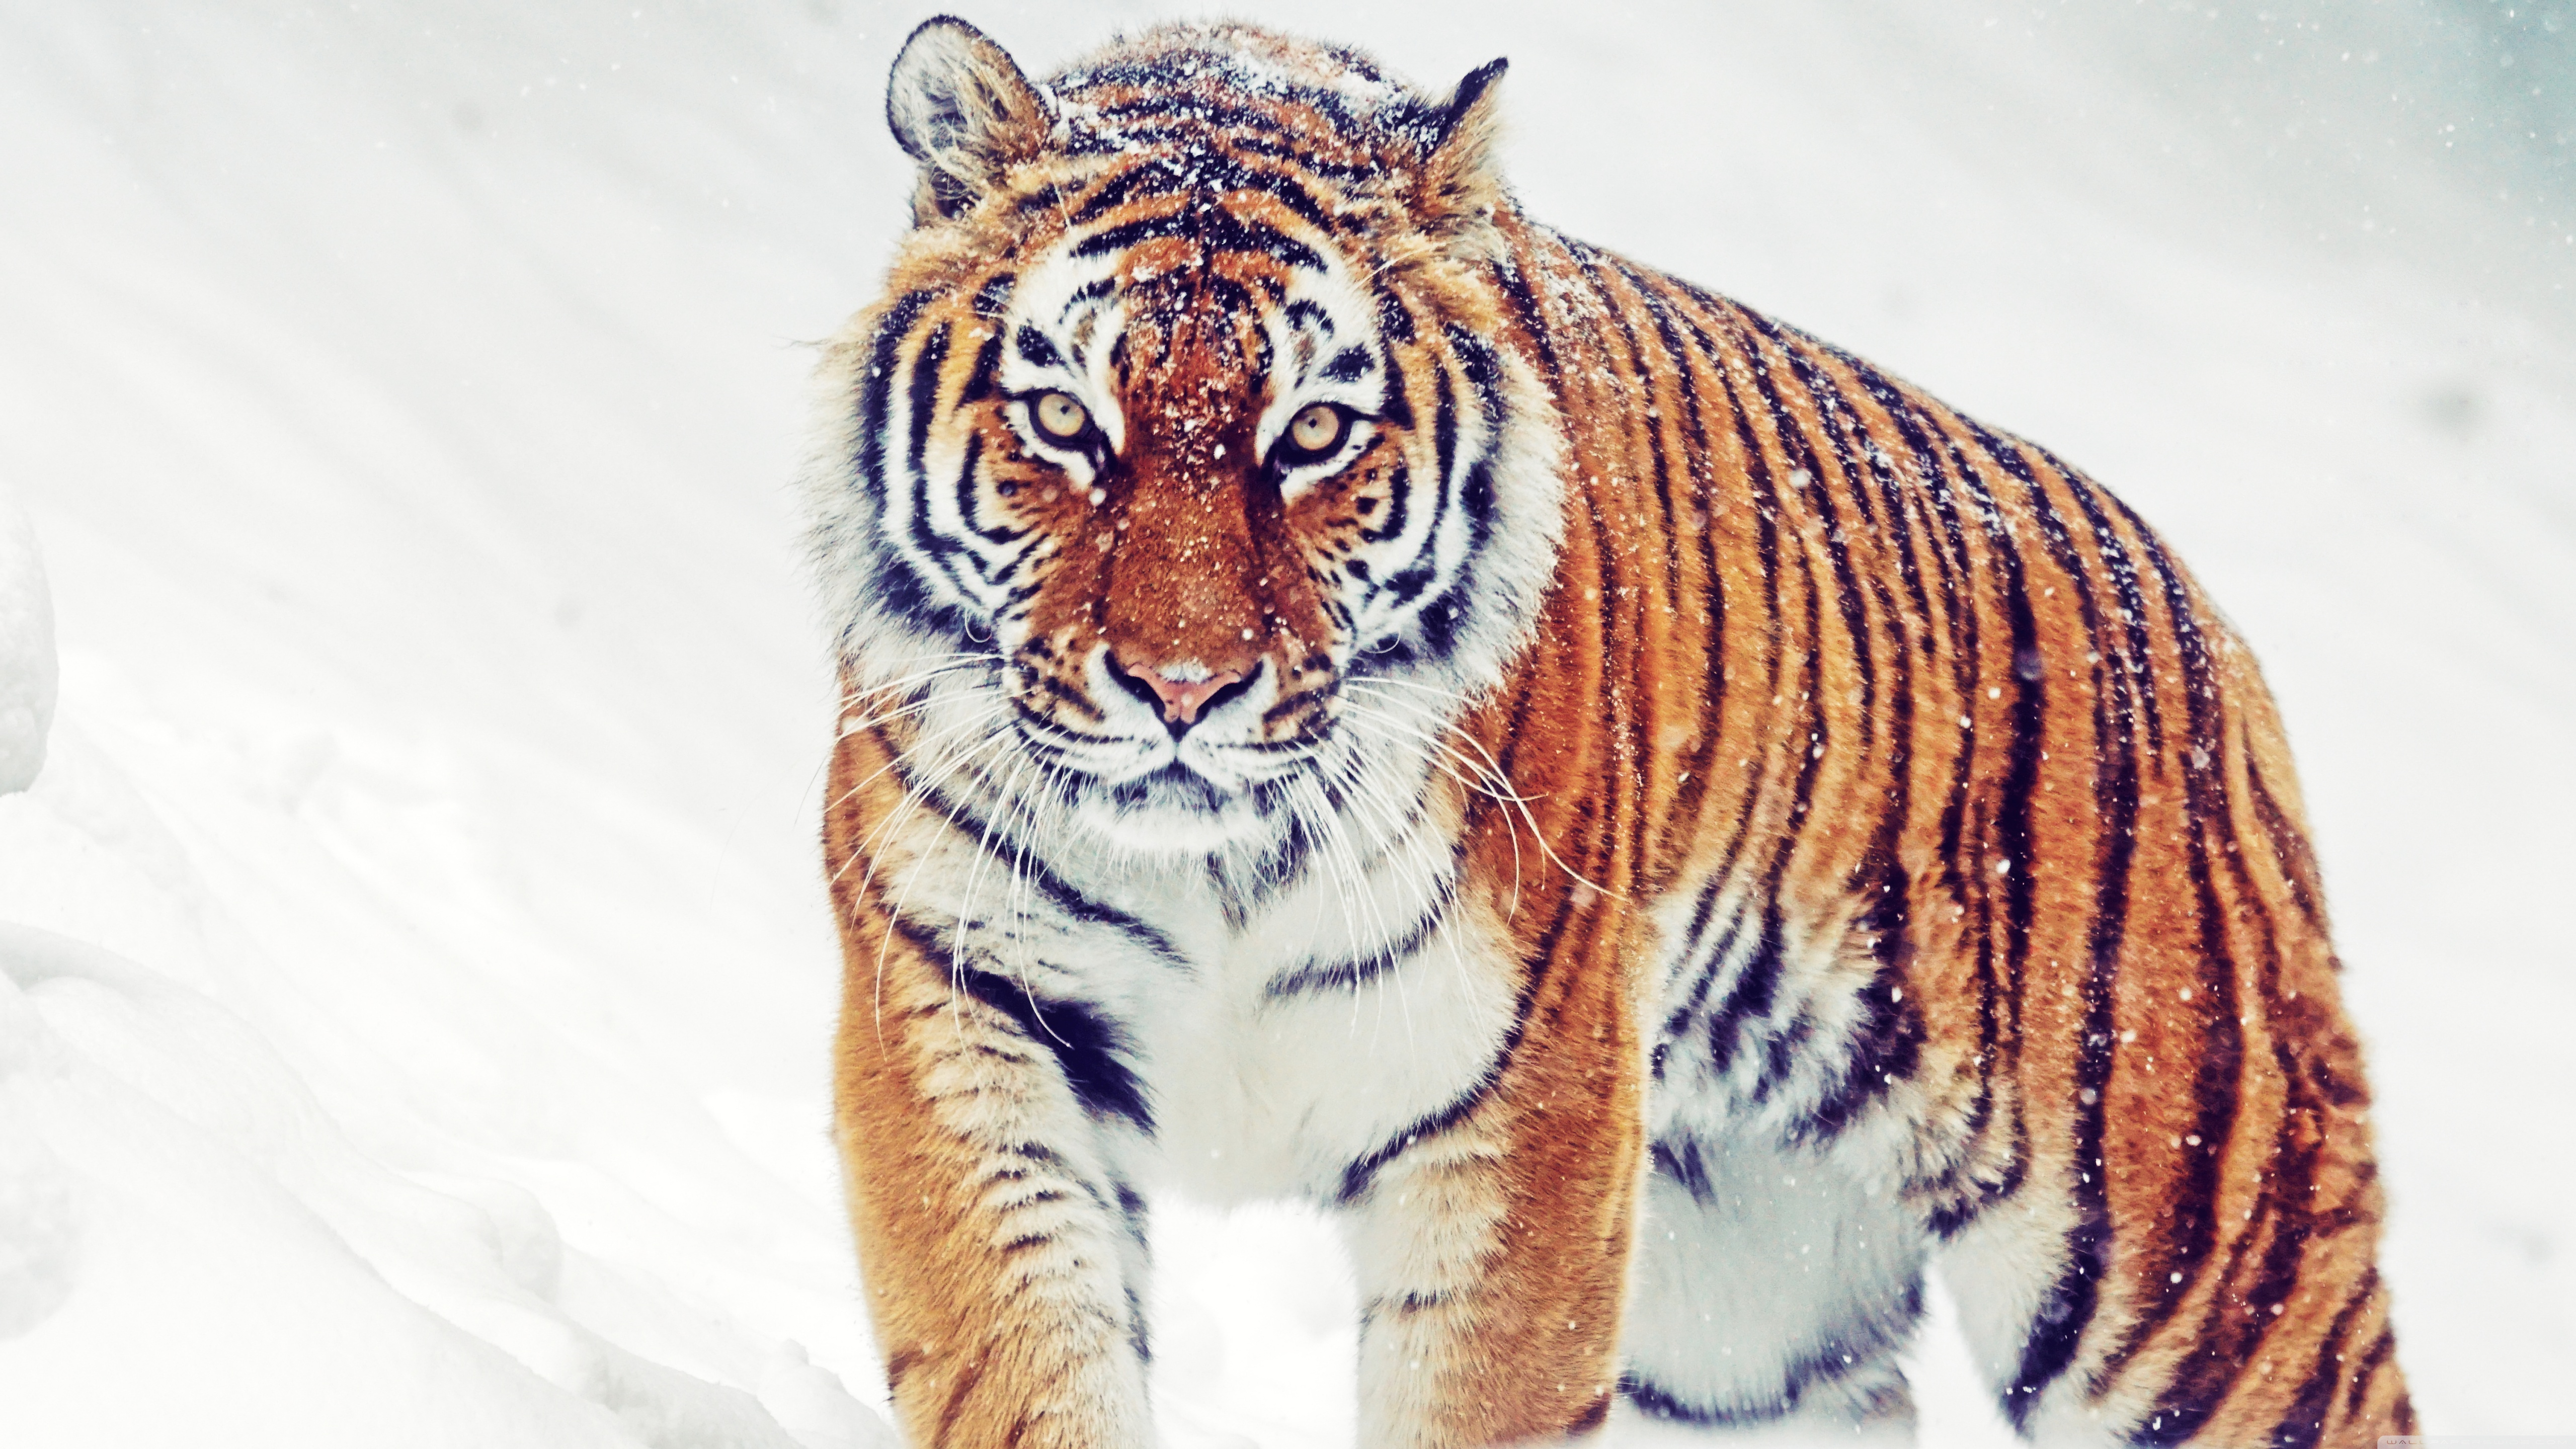tiger: (817, 48, 2289, 1346)
